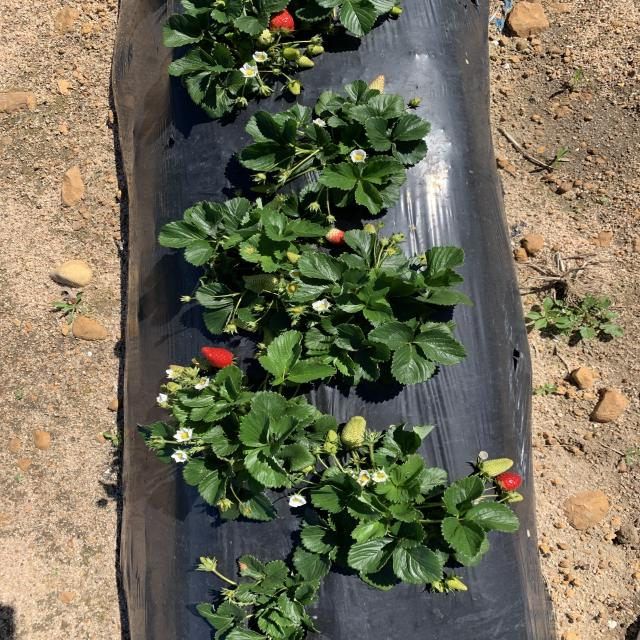unripe: (262, 6, 299, 37), (201, 347, 236, 369), (495, 472, 524, 492)
